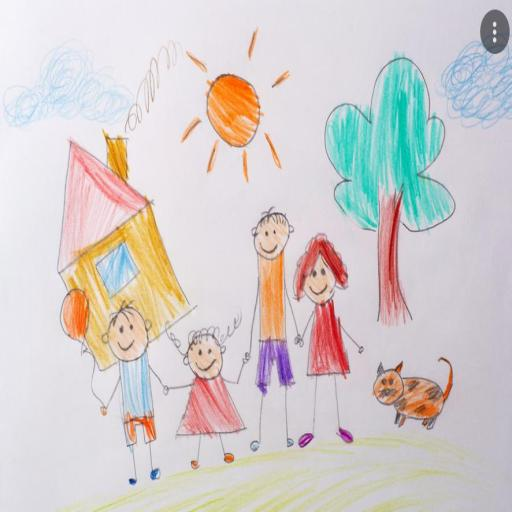person: (290, 227, 364, 451), (164, 304, 248, 476), (97, 293, 169, 488), (246, 201, 300, 452)
